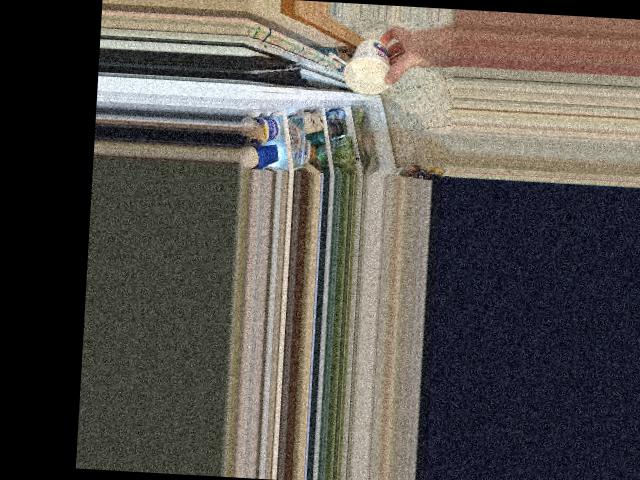cotage: (346, 36, 397, 94)
